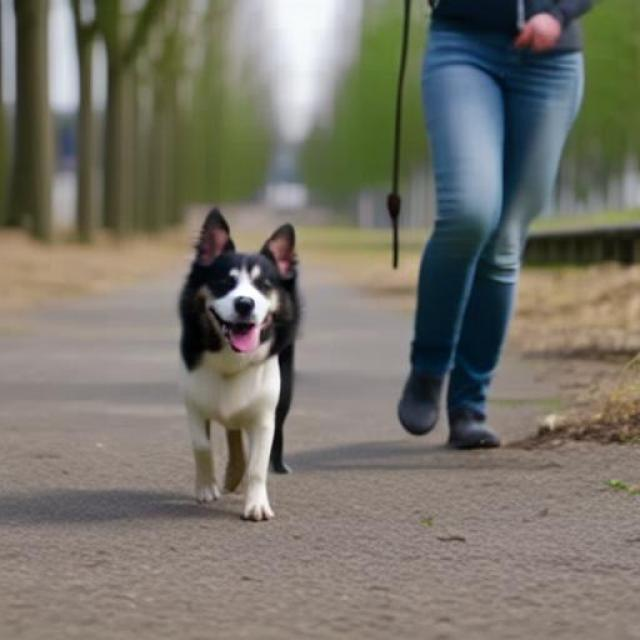Unleashed_Dog: (178, 82, 508, 520)
